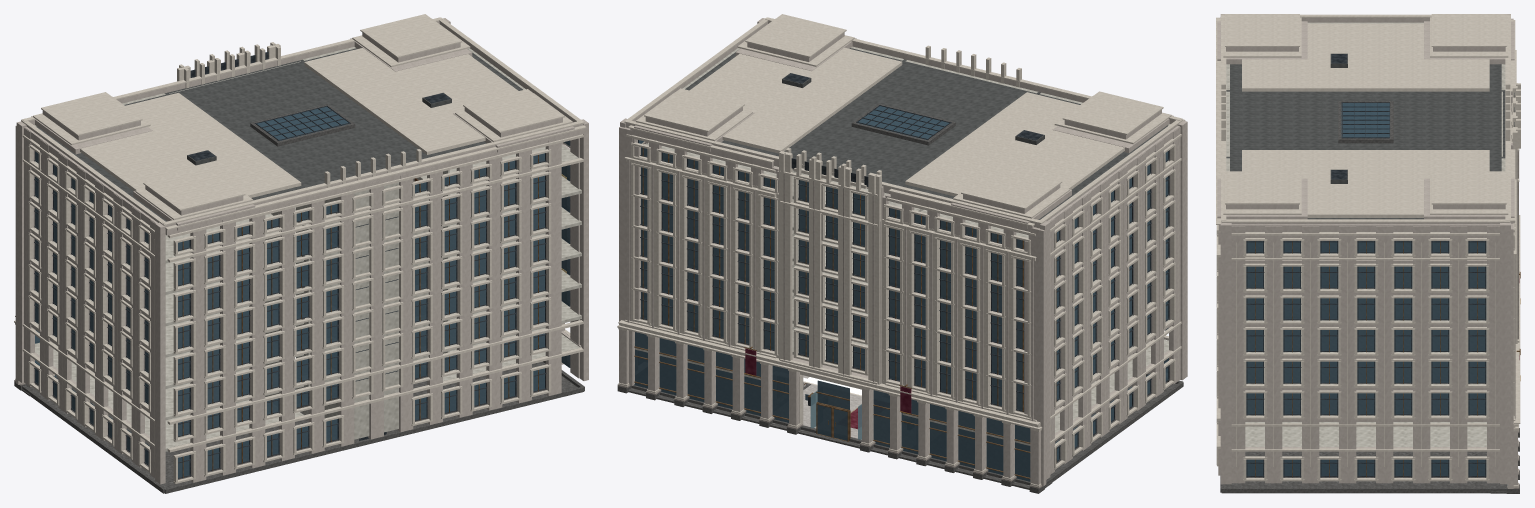
Rendered from CIV03_lod2.glb.
3 renders of one model, left to right at view 1: azimuth 30°, elevation 25°; view 2: azimuth 150°, elevation 25°; view 3: azimuth 270°, elevation 25°, orthographic.
Parts seen in each view (by area): view 1: Facade_Rear_Piers__Limestone, Facade_Window_Jambs__Limestone_Trim, Facade_Glass_Panes__Glass, Roof_Wing_Eaves__Limestone_Trim, Structure_Side_Solid_Masonry_Between_Windows__Limestone, Roof_Dark_Membrane__Roof_Metal, Facade_Window_Sills__Limestone_Trim, Roof_Corner_Coping__Limestone_Trim, Facade_Window_Heads__Limestone_Trim, Structure_Office_Floor_Slabs__Plaster, Facade_Rear_Stone_Bands__Limestone_Trim, Facade_Side_Corner_Quoins__Limestone (+24 smaller); view 2: Facade_Window_Jambs__Limestone_Trim, Facade_Glass_Panes__Glass, Roof_Wing_Eaves__Limestone_Trim, Structure_Side_Solid_Masonry_Between_Windows__Limestone, Roof_Dark_Membrane__Roof_Metal, Facade_Tall_Stone_Pilasters__Limestone_Trim, Facade_Central_Riser_Pilasters__Limestone_Trim, Roof_Corner_Coping__Limestone_Trim, Facade_Ground_Storefront_Glass__Glass, Structure_Stone_Colonnade_Piers__Limestone, Facade_Window_Heads__Limestone_Trim, Facade_Window_Sills__Limestone_Trim (+37 smaller); view 3: Structure_Side_Solid_Masonry_Between_Windows__Limestone, Roof_Wing_Eaves__Limestone_Trim, Facade_Glass_Panes__Glass, Roof_Dark_Membrane__Roof_Metal, Roof_Corner_Coping__Limestone_Trim, Facade_Window_Jambs__Limestone_Trim, Facade_Side_Corner_Quoins__Limestone, Structure_Office_Floor_Slabs__Plaster, Facade_Window_Heads__Limestone_Trim, Facade_Window_Sills__Limestone_Trim, Facade_Side_Stone_Bands__Limestone_Trim, Structure_Side_Story_Spandrels__Limestone (+25 smaller).
Boxes of the visible parts, box(x1,y1,x2,y2) form: Facade_Rear_Piers__Limestone: box(190, 137, 561, 482); Facade_Window_Jambs__Limestone_Trim: box(28, 146, 551, 482); Facade_Glass_Panes__Glass: box(35, 140, 569, 477); Roof_Wing_Eaves__Limestone_Trim: box(80, 48, 518, 197); Structure_Side_Solid_Masonry_Between_Windows__Limestone: box(24, 127, 579, 477); Roof_Dark_Membrane__Roof_Metal: box(36, 48, 522, 221); Facade_Window_Sills__Limestone_Trim: box(28, 161, 551, 483); Roof_Corner_Coping__Limestone_Trim: box(41, 14, 564, 210); Facade_Window_Heads__Limestone_Trim: box(28, 144, 551, 458); Structure_Office_Floor_Slabs__Plaster: box(34, 47, 581, 451); Facade_Rear_Stone_Bands__Limestone_Trim: box(167, 134, 583, 452); Facade_Side_Corner_Quoins__Limestone: box(16, 18, 588, 484); Facade_Window_Jambs__Limestone_Trim: box(631, 144, 1175, 468); Facade_Glass_Panes__Glass: box(638, 140, 1168, 460); Roof_Wing_Eaves__Limestone_Trim: box(689, 47, 1124, 196); Structure_Side_Solid_Masonry_Between_Windows__Limestone: box(637, 127, 1180, 474); Roof_Dark_Membrane__Roof_Metal: box(685, 48, 1168, 219); Facade_Tall_Stone_Pilasters__Limestone_Trim: box(632, 162, 1029, 418); Facade_Central_Riser_Pilasters__Limestone_Trim: box(779, 151, 881, 384); Roof_Corner_Coping__Limestone_Trim: box(644, 14, 1163, 209); Facade_Ground_Storefront_Glass__Glass: box(634, 332, 1030, 481); Structure_Stone_Colonnade_Piers__Limestone: box(619, 330, 1040, 484); Facade_Window_Heads__Limestone_Trim: box(631, 142, 1175, 448); Facade_Window_Sills__Limestone_Trim: box(631, 156, 1175, 469); Structure_Side_Solid_Masonry_Between_Windows__Limestone: box(1231, 226, 1499, 483); Roof_Wing_Eaves__Limestone_Trim: box(1242, 23, 1489, 217); Facade_Glass_Panes__Glass: box(1246, 241, 1486, 475); Roof_Dark_Membrane__Roof_Metal: box(1230, 64, 1501, 219); Roof_Corner_Coping__Limestone_Trim: box(1225, 14, 1506, 204); Facade_Window_Jambs__Limestone_Trim: box(1216, 123, 1515, 480); Facade_Side_Corner_Quoins__Limestone: box(1220, 14, 1510, 484); Structure_Office_Floor_Slabs__Plaster: box(1226, 22, 1505, 446); Facade_Window_Heads__Limestone_Trim: box(1217, 111, 1514, 459); Facade_Window_Sills__Limestone_Trim: box(1217, 234, 1514, 481); Facade_Side_Stone_Bands__Limestone_Trim: box(1231, 232, 1499, 451); Structure_Side_Story_Spandrels__Limestone: box(1245, 235, 1486, 448).
Bounding box in the file's own units: 60.06 × 37.93 × 36.66.
Materials: 18 (18 with a texture image).
